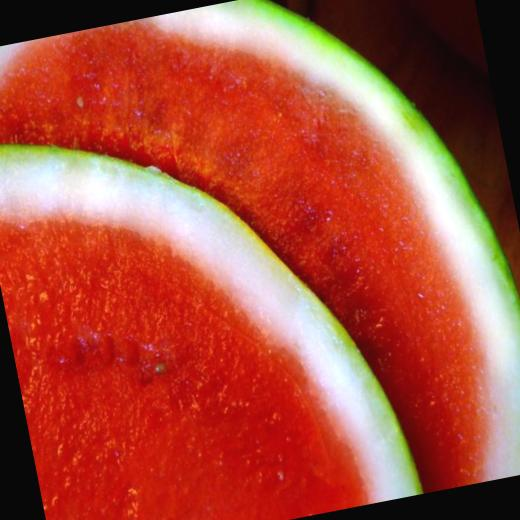Cherry: (0, 0, 520, 520), (0, 71, 422, 520)
